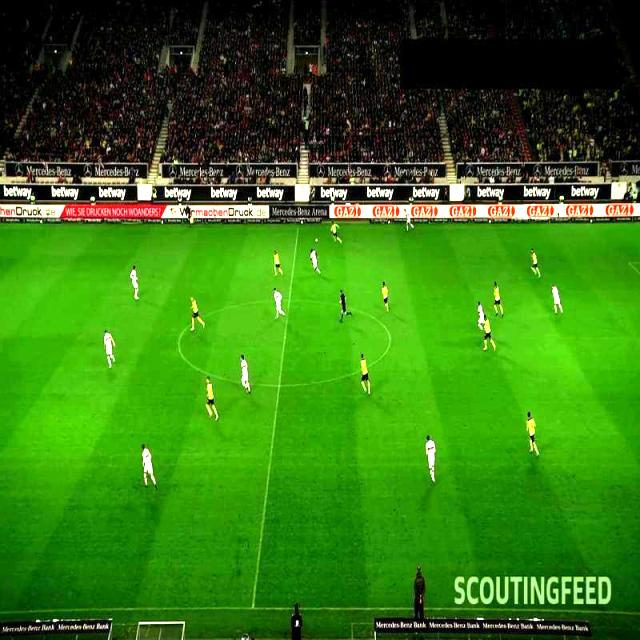bigarea_top_inner: (624, 256, 634, 268)
halfcircle_bottom: (274, 380, 284, 391)
halfcircle_top: (284, 294, 296, 305)
midline_bottom_intersection: (239, 593, 266, 619), (524, 602, 534, 612)
midline_top_intersection: (292, 222, 302, 232)
